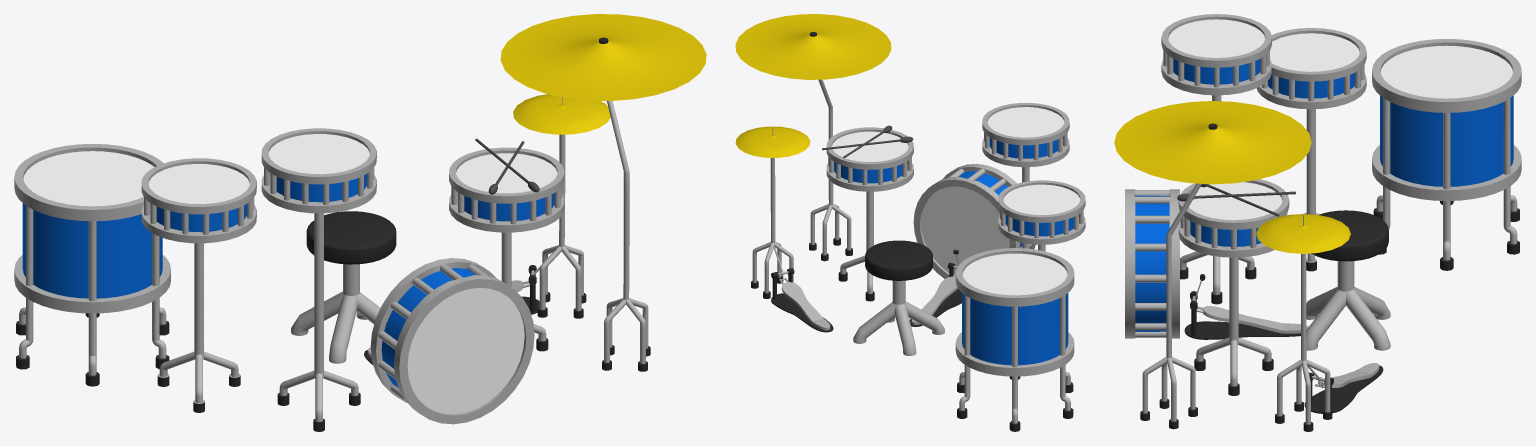
The picture shows the model from 3 angles, left to right: view 1: azimuth 30°, elevation 25°; view 2: azimuth 150°, elevation 25°; view 3: azimuth 270°, elevation 25°; orthographic projection. The views are drawn at different scales.
Parts seen in each view (by area): view 1: Floor_Tom, Kick, Crash, Tom1, Tom2, Snare, Stool, Hi-Hat; view 2: Floor_Tom, Crash, Kick, Snare, Tom1, Tom2, Stool, Hi-Hat, Hi-Hat_Pedal, Pedal.001, Pedal, Kick_Pedal (+1 smaller); view 3: Floor_Tom, Crash, Tom1, Snare, Tom2, Kick, Stool, Hi-Hat, Kick_Pedal, Hi-Hat_Pedal, Pedal, Drumsticks (+1 smaller).
Part boxes in pixels (x1=…): Floor_Tom: x1=14, y1=143, x2=170, y2=386; Kick: x1=370, y1=258, x2=534, y2=424; Crash: x1=500, y1=14, x2=706, y2=371; Tom1: x1=261, y1=128, x2=376, y2=431; Tom2: x1=141, y1=158, x2=256, y2=412; Snare: x1=449, y1=147, x2=564, y2=351; Stool: x1=291, y1=211, x2=396, y2=363; Hi-Hat: x1=513, y1=94, x2=610, y2=318; Floor_Tom: x1=955, y1=248, x2=1074, y2=431; Crash: x1=735, y1=14, x2=891, y2=261; Kick: x1=913, y1=163, x2=1035, y2=278; Snare: x1=826, y1=127, x2=913, y2=301; Tom1: x1=982, y1=102, x2=1069, y2=248; Tom2: x1=998, y1=180, x2=1085, y2=251; Stool: x1=853, y1=240, x2=944, y2=355; Hi-Hat: x1=735, y1=126, x2=810, y2=298; Hi-Hat_Pedal: x1=771, y1=268, x2=833, y2=332; Pedal.001: x1=774, y1=246, x2=823, y2=323; Pedal: x1=921, y1=249, x2=958, y2=315; Kick_Pedal: x1=909, y1=262, x2=961, y2=326; Floor_Tom: x1=1372, y1=39, x2=1521, y2=270; Crash: x1=1114, y1=101, x2=1311, y2=429; Tom1: x1=1161, y1=14, x2=1271, y2=304; Snare: x1=1178, y1=179, x2=1289, y2=395; Tom2: x1=1256, y1=28, x2=1366, y2=271; Kick: x1=1125, y1=189, x2=1179, y2=338; Stool: x1=1306, y1=210, x2=1390, y2=350; Hi-Hat: x1=1256, y1=214, x2=1350, y2=431; Kick_Pedal: x1=1184, y1=291, x2=1308, y2=339; Hi-Hat_Pedal: x1=1304, y1=363, x2=1383, y2=413; Pedal: x1=1192, y1=274, x2=1283, y2=333; Drumsticks: x1=1177, y1=184, x2=1295, y2=216.
Size of the model in its own units: 6.7 by 3.52 by 4.46.
